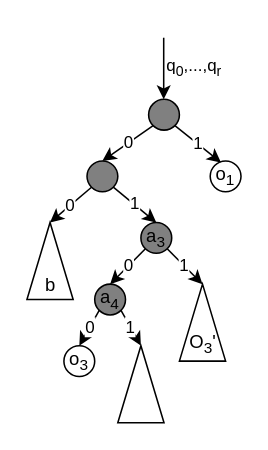
The diagram is 268 pixels wide and 450 high, and some of its shapes have lost their labels. The centre of each missing label's shape, as x and y in pixels:
a 1: the point at 163,114
a 2: the point at 101,175
O 3 '': the point at 140,383
